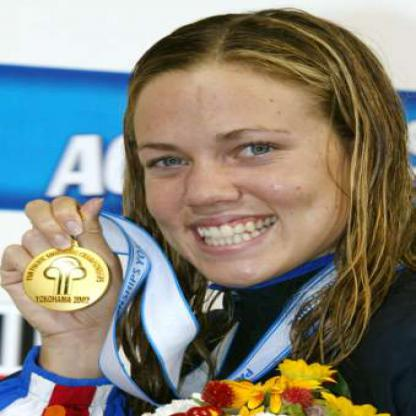face: (119, 22, 352, 290)
